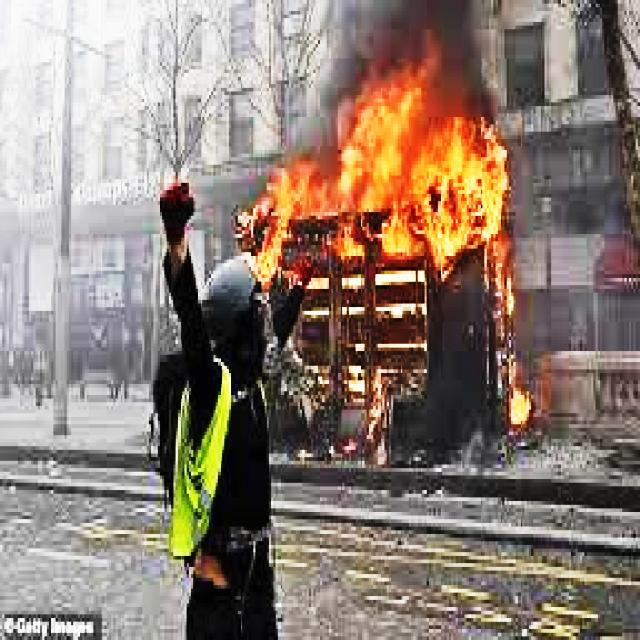api: (245, 74, 510, 286), (488, 359, 541, 429)
